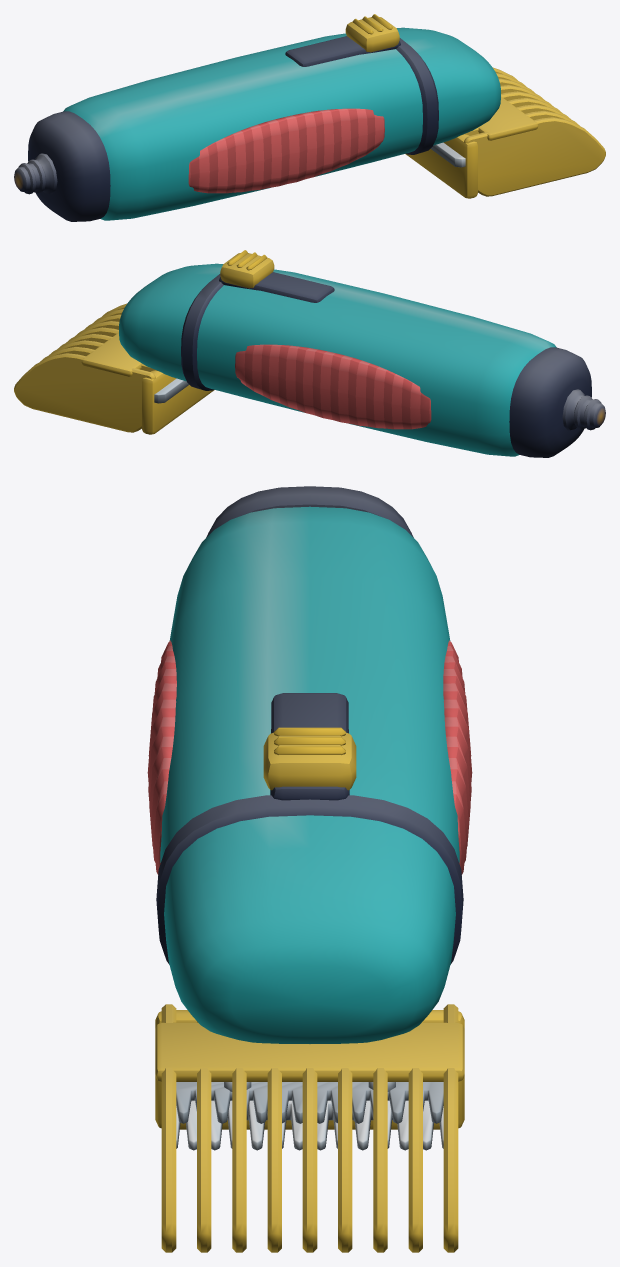
File: clipper.glb
3 views of the same model, one above another, from view 1: azimuth 30°, elevation 25°; view 2: azimuth 150°, elevation 25°; view 3: azimuth 270°, elevation 25° (orthographic). The views are drawn at different scales.
Parts seen in each view (by area): view 1: Body, Guard, Blade; view 2: Body, Guard, Blade; view 3: Body, Guard, Blade.
Boxes of the visible parts, x1=… form: Body: x1=14, y1=14, x2=500, y2=221; Guard: x1=405, y1=67, x2=605, y2=198; Blade: x1=430, y1=142, x2=465, y2=167; Body: x1=119, y1=250, x2=605, y2=457; Guard: x1=14, y1=303, x2=214, y2=434; Blade: x1=154, y1=378, x2=189, y2=403; Body: x1=147, y1=486, x2=472, y2=1043; Guard: x1=155, y1=1004, x2=464, y2=1252; Blade: x1=176, y1=1082, x2=443, y2=1150.
Size of the model in its own units: 0.185 by 0.0539 by 0.0472.
